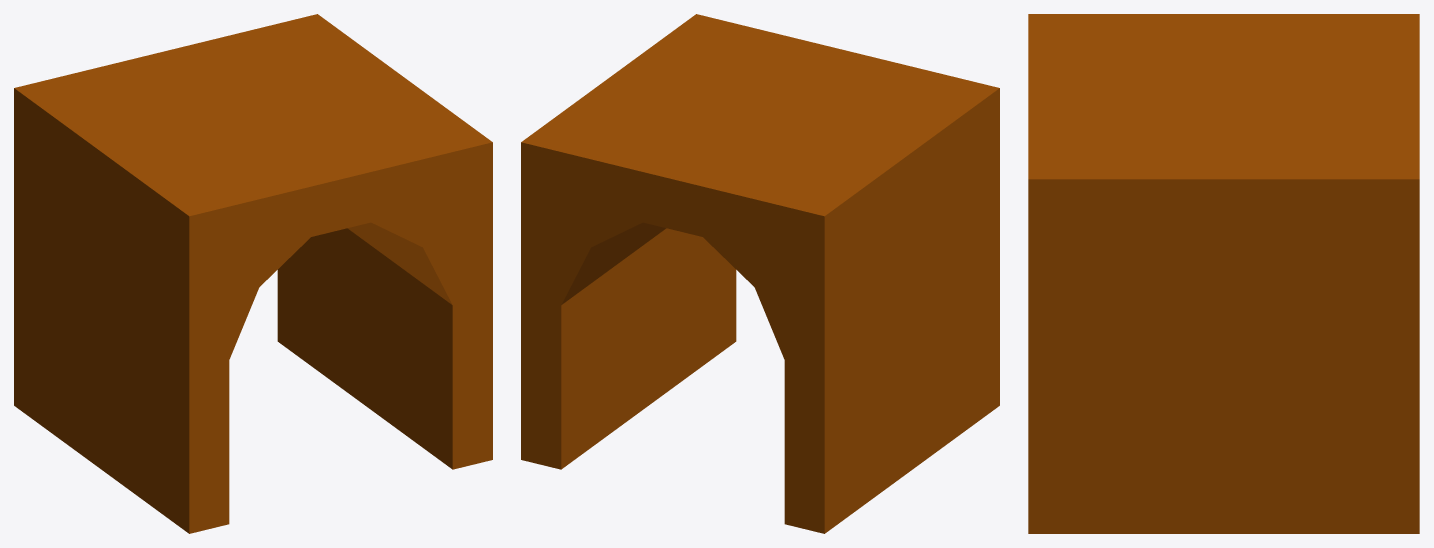
Rendered from door.obj.
The picture shows the model from 3 angles, left to right: view 1: azimuth 30°, elevation 25°; view 2: azimuth 150°, elevation 25°; view 3: azimuth 270°, elevation 25°; orthographic projection. The views are drawn at different scales.
Parts seen in each view (by area): view 1: door; view 2: door; view 3: door.
Boxes of the visible parts, bbox=[...] form: door: bbox=[14, 14, 492, 533]; door: bbox=[521, 14, 999, 533]; door: bbox=[1028, 14, 1419, 533].
Bounding box in the file's own units: 1 × 1 × 1.
